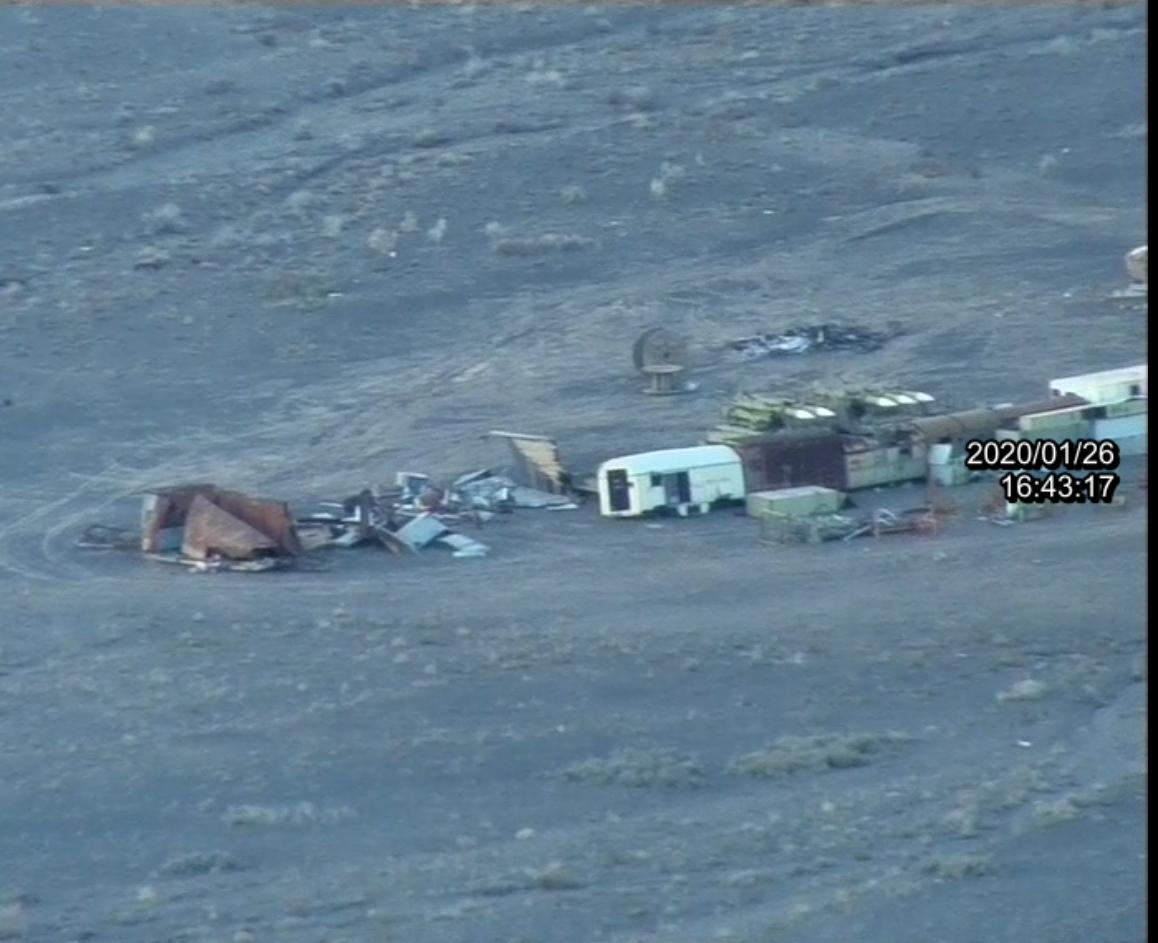armored_car: (834, 364, 943, 427), (720, 388, 836, 438)
